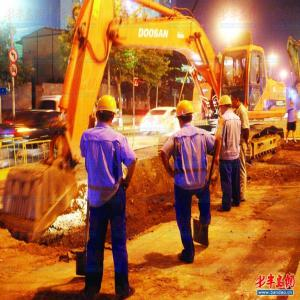none: (229, 91, 242, 111)
yellow: (96, 95, 118, 126), (176, 99, 195, 126), (219, 95, 233, 116)
